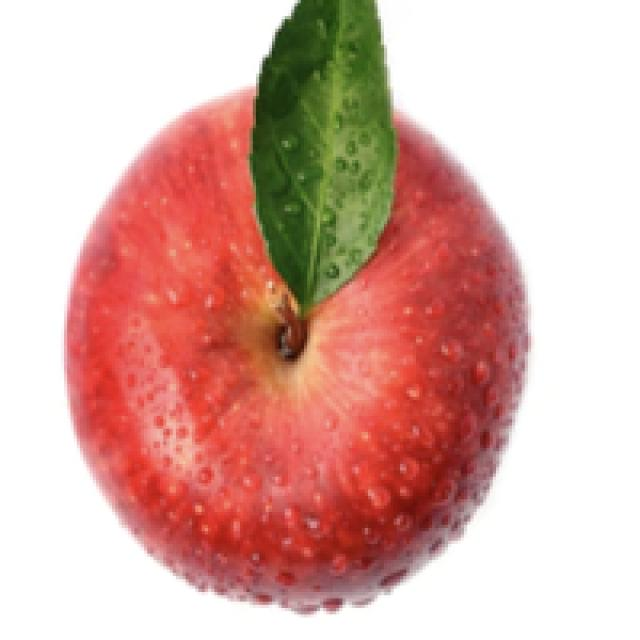apple: (58, 0, 534, 618)
